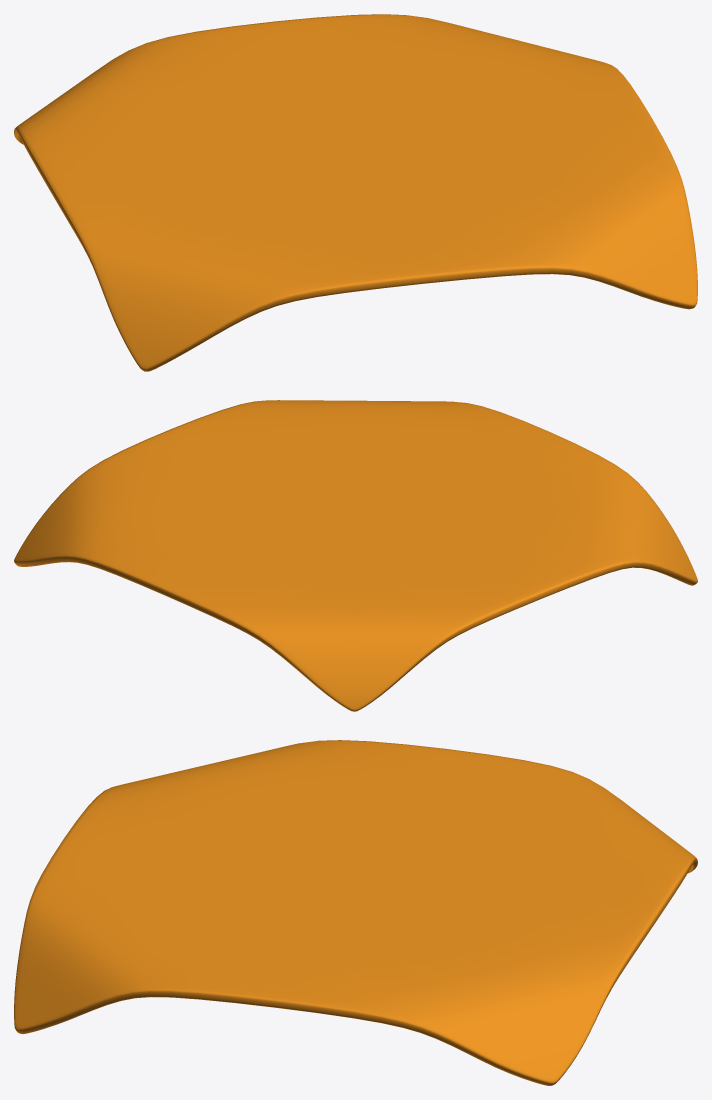
Rendered from queso_cortado.fbx.
3 renders of one model, top to bottom at view 1: azimuth 30°, elevation 25°; view 2: azimuth 150°, elevation 25°; view 3: azimuth 270°, elevation 25°, orthographic. The views are drawn at different scales.
Parts seen in each view (by area): view 1: cgaxis_models_29_20_07; view 2: cgaxis_models_29_20_07; view 3: cgaxis_models_29_20_07.
Boxes of the visible parts, x1,y1,x2,y2 form: cgaxis_models_29_20_07: [14, 14, 697, 371]; cgaxis_models_29_20_07: [14, 400, 697, 711]; cgaxis_models_29_20_07: [14, 740, 697, 1085].
Bounding box in the file's own units: 4.03 × 0.5262 × 3.93.
